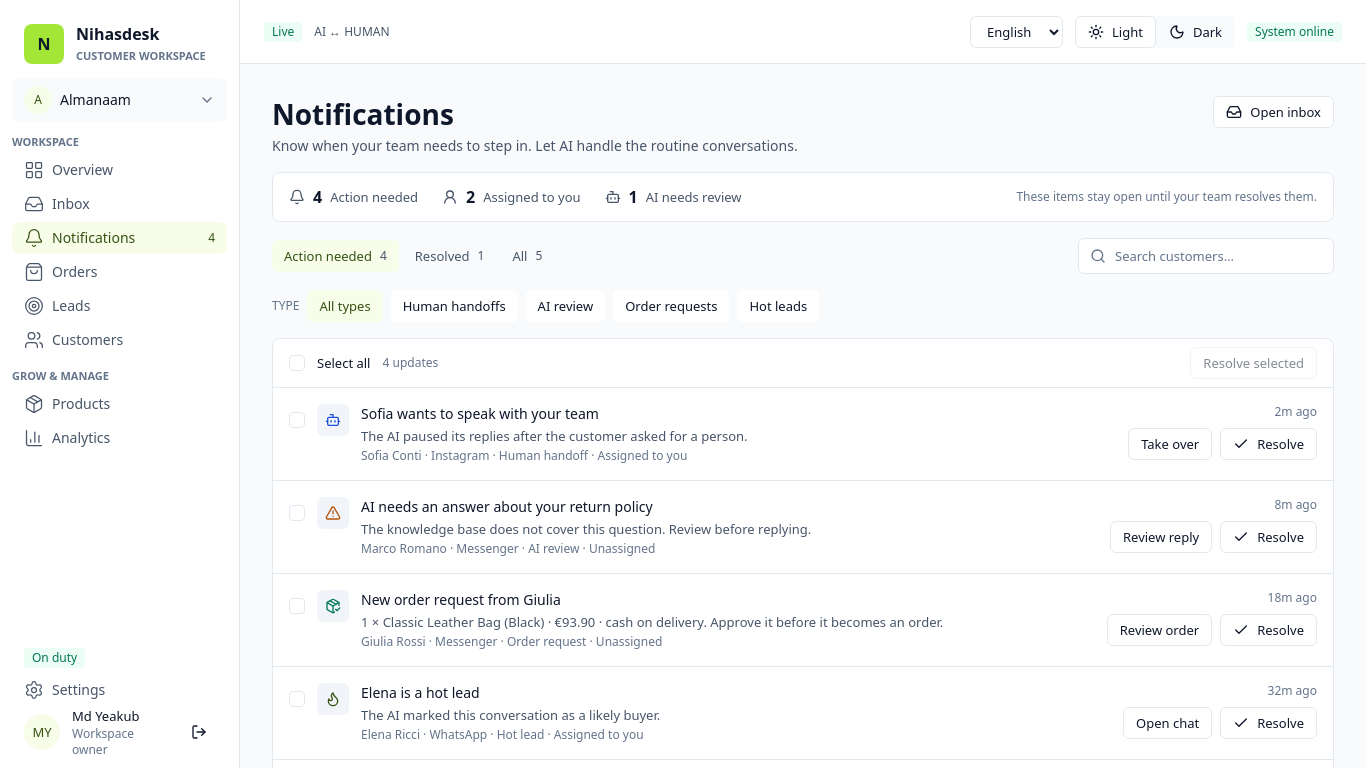
Test: Notifications › filters by type
This screenshot has width=1366, height=768.
Expected: the text "Sofia wants to speak with your team" is shown, [361,404,599,423]
Click the button "Hot leads" at [778, 306], box [737,290,819,322]
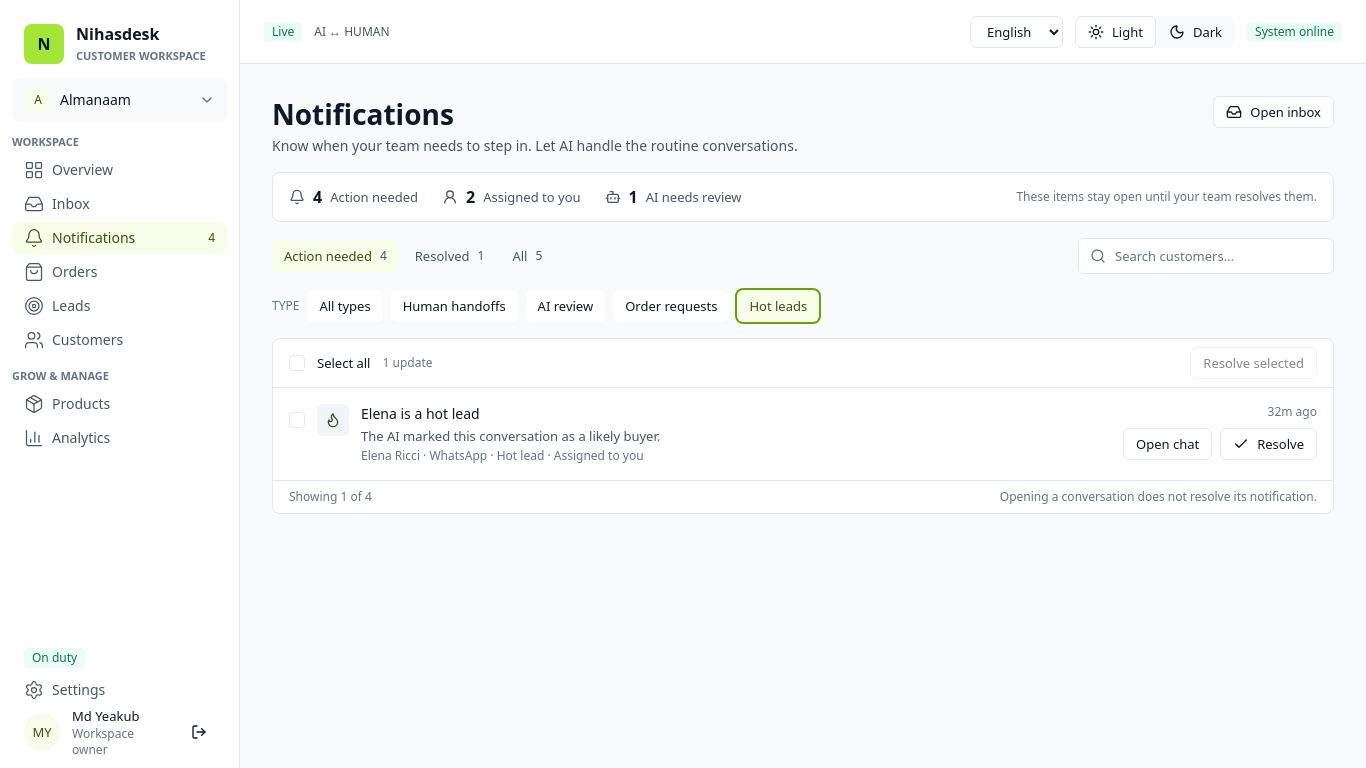
Expected: the text "Elena is a hot lead" is shown, [361,404,480,423]
Expected: the text "Sofia wants to speak with your team" is gone
